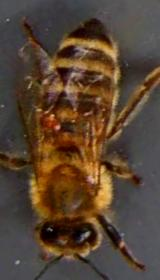varroa_mite: (40, 110, 66, 134)
